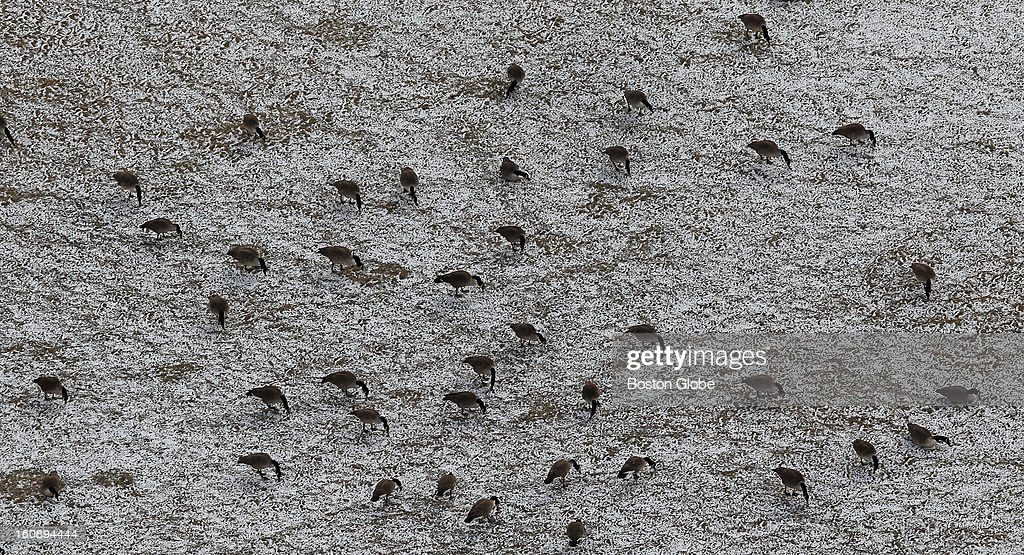goose: (769, 465, 811, 507), (234, 450, 284, 483), (906, 421, 953, 455), (245, 384, 292, 417), (315, 245, 366, 275), (745, 138, 791, 170), (740, 374, 789, 404), (319, 370, 371, 398), (459, 353, 498, 390), (228, 241, 271, 274), (906, 260, 938, 304), (434, 268, 486, 295), (626, 322, 667, 356), (348, 408, 392, 438), (736, 12, 774, 45), (618, 87, 657, 119), (443, 391, 489, 418), (830, 122, 876, 149), (545, 453, 581, 487), (33, 374, 71, 406), (602, 144, 633, 182), (934, 385, 983, 409), (578, 378, 603, 424), (140, 217, 184, 243), (494, 155, 532, 185), (616, 454, 658, 481), (112, 171, 145, 205), (507, 322, 547, 349), (328, 179, 363, 209), (465, 493, 501, 522), (493, 225, 527, 255), (366, 476, 401, 505), (240, 111, 268, 147), (501, 61, 527, 99), (37, 468, 66, 502), (853, 439, 881, 474), (207, 292, 231, 330), (398, 167, 420, 207), (432, 471, 456, 499), (565, 517, 584, 547)
